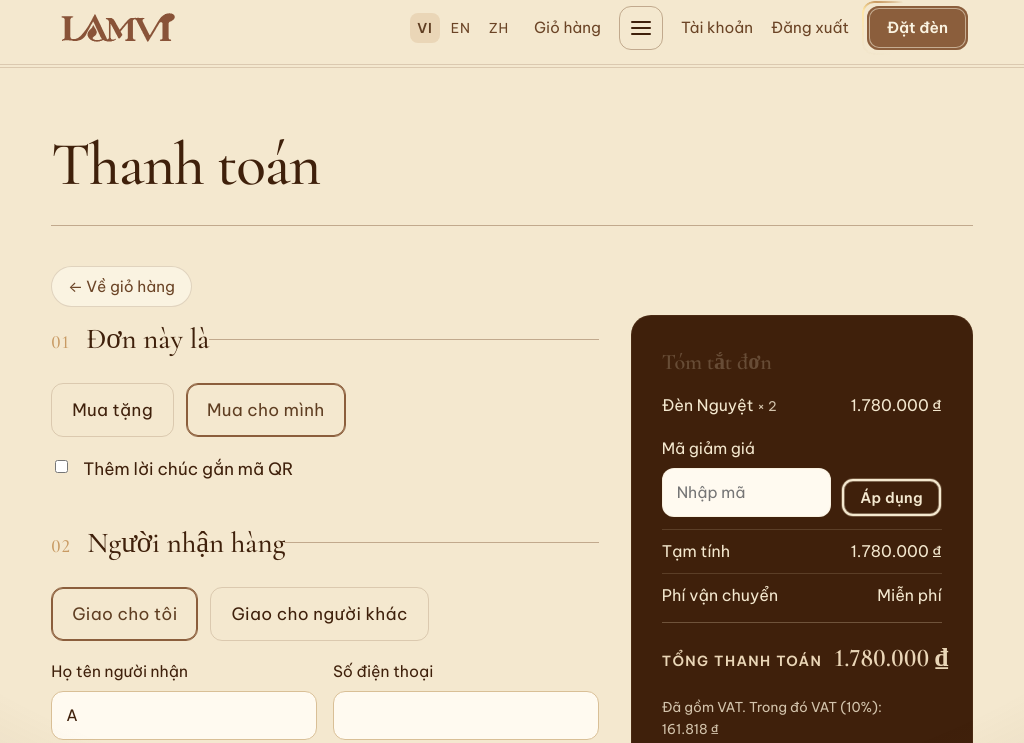
Test: BR-PAY-004: giao cho người khác không dùng COD (khi có payOS) › chọn "Giao cho người khác" → COD bị khoá và tự chuyển sang payOS
The width and height of the screenshot is (1024, 743).
Expected: the heading "Tóm tắt đơn" is shown, [662, 349, 771, 375]
Click the button "Giao cho người khác": [320, 614] box [210, 587, 429, 641]
(page scrolled)
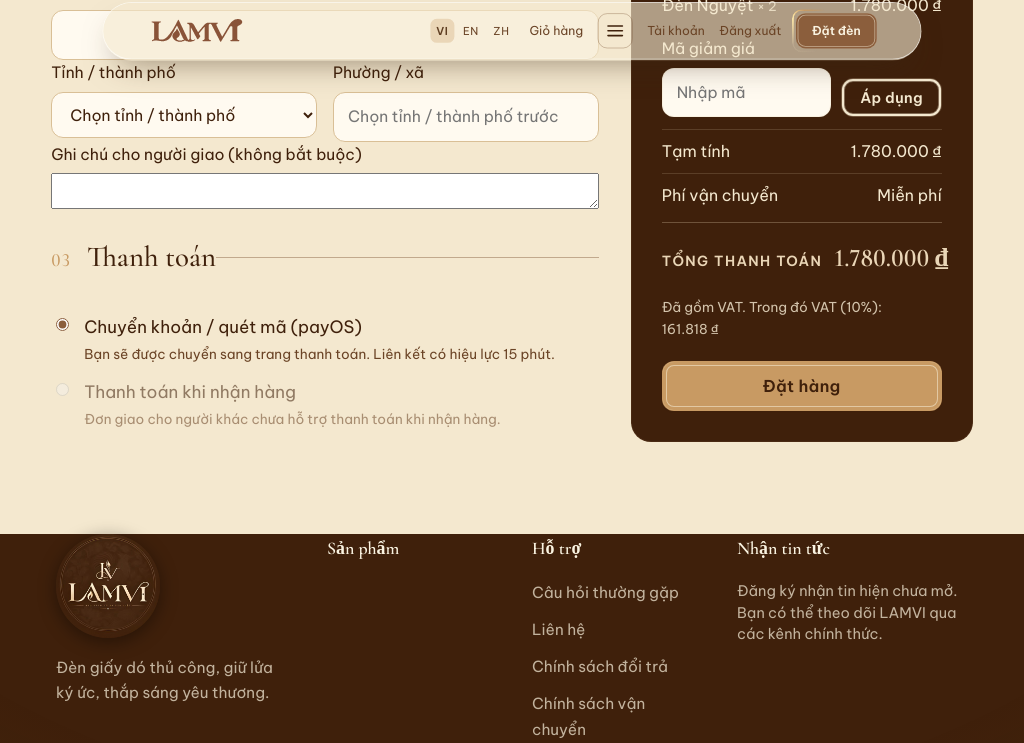
Now the 1st radio button is checked, box [56, 318, 69, 331]
Now the text "Đơn giao cho người khác chưa hỗ trợ thanh toán khi nhận hàng." is shown, box [84, 408, 501, 430]
